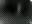person: (17, 5, 23, 17)
